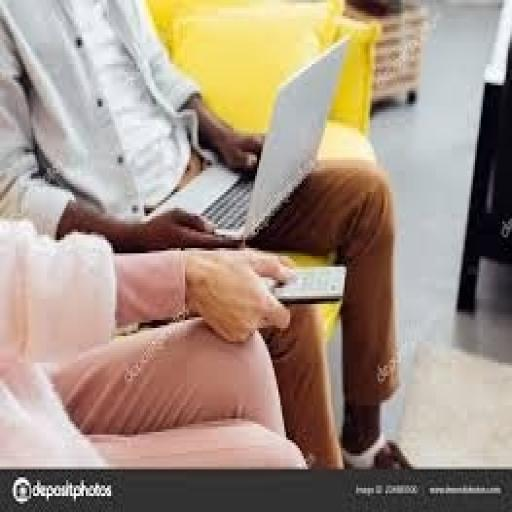using_laptop: (142, 32, 351, 245)
